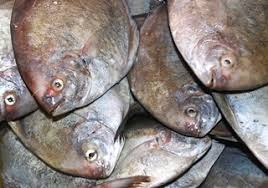Ikan Bawal: (7, 1, 138, 115), (163, 3, 268, 86)
